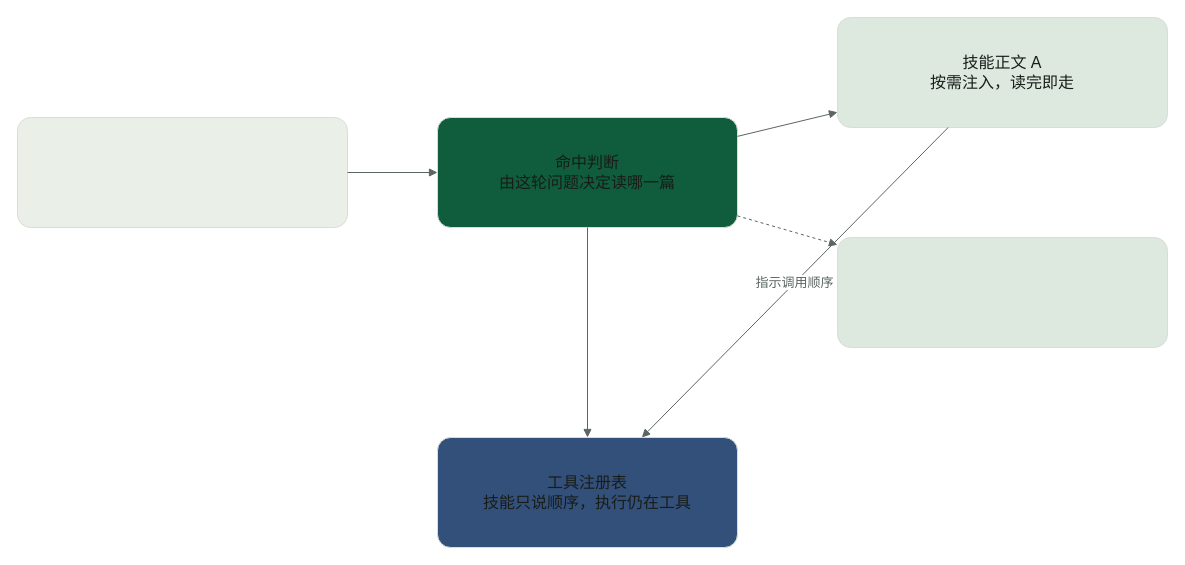
Image size: 1185x565. Some labels were removed from this diagram. Here are the shapes that lost their labels. From the top down, the centre of each, then its label:
the point at 182,172: 技能清单 名称 + 什么时候用它，常驻上下文
the point at 1002,292: 技能正文 B 没命中就不占位
